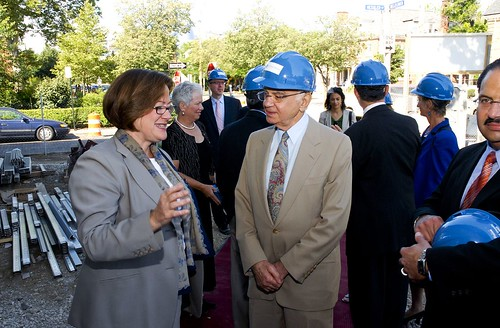person hardhat: (260, 52, 314, 125), (411, 71, 454, 119), (350, 58, 392, 107), (244, 66, 270, 110), (208, 70, 228, 96)
